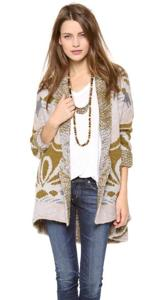S_cardigan sweater: (30, 65, 141, 233)
